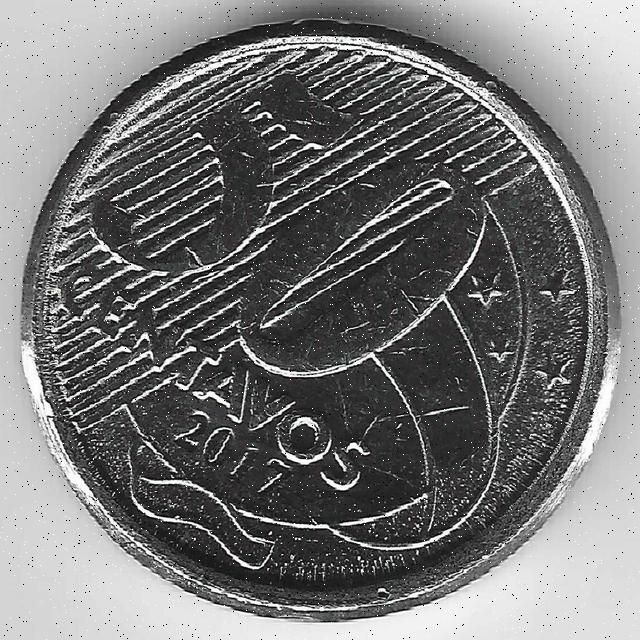50 cent: (25, 30, 625, 628)
